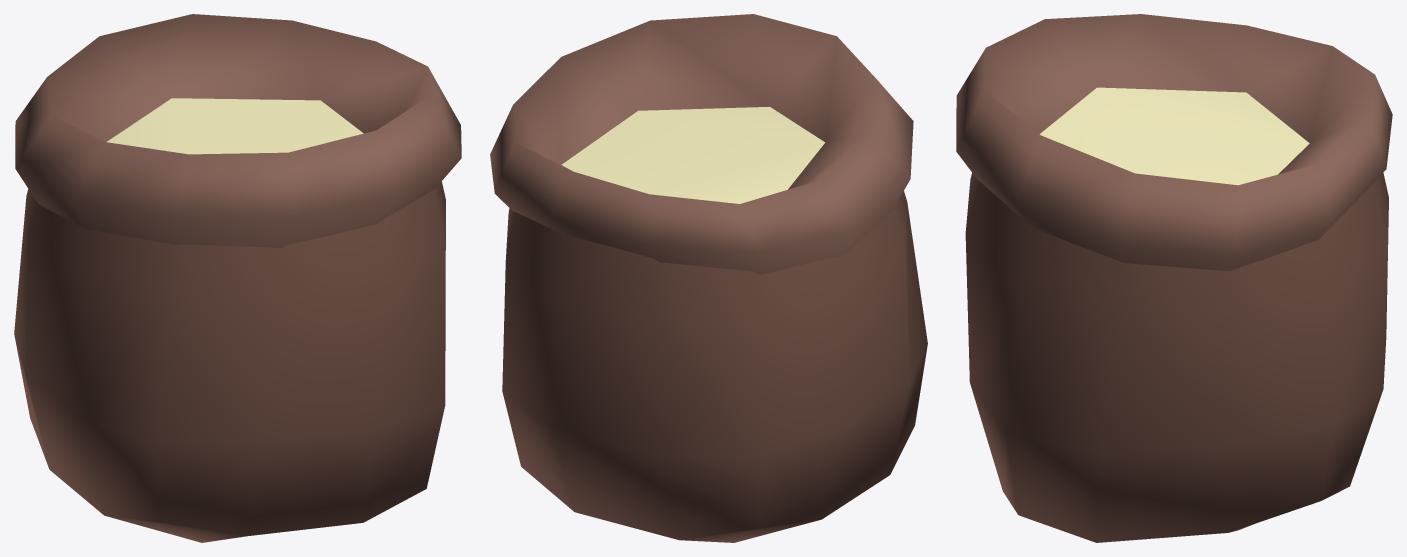
The model's file is bag_001.glb.
3 views of the same model, side by side, from view 1: azimuth 30°, elevation 25°; view 2: azimuth 150°, elevation 25°; view 3: azimuth 270°, elevation 25° (orthographic). The views are drawn at different scales.
Parts seen in each view (by area): view 1: bag_001; view 2: bag_001; view 3: bag_001.
Part boxes in pixels (<box>): bag_001: <box>14,14,461,542</box>; bag_001: <box>490,14,927,542</box>; bag_001: <box>956,14,1392,542</box>.
Size of the model in its own units: 0.5379 by 0.5712 by 0.5199.
1 material, 1 textured.
